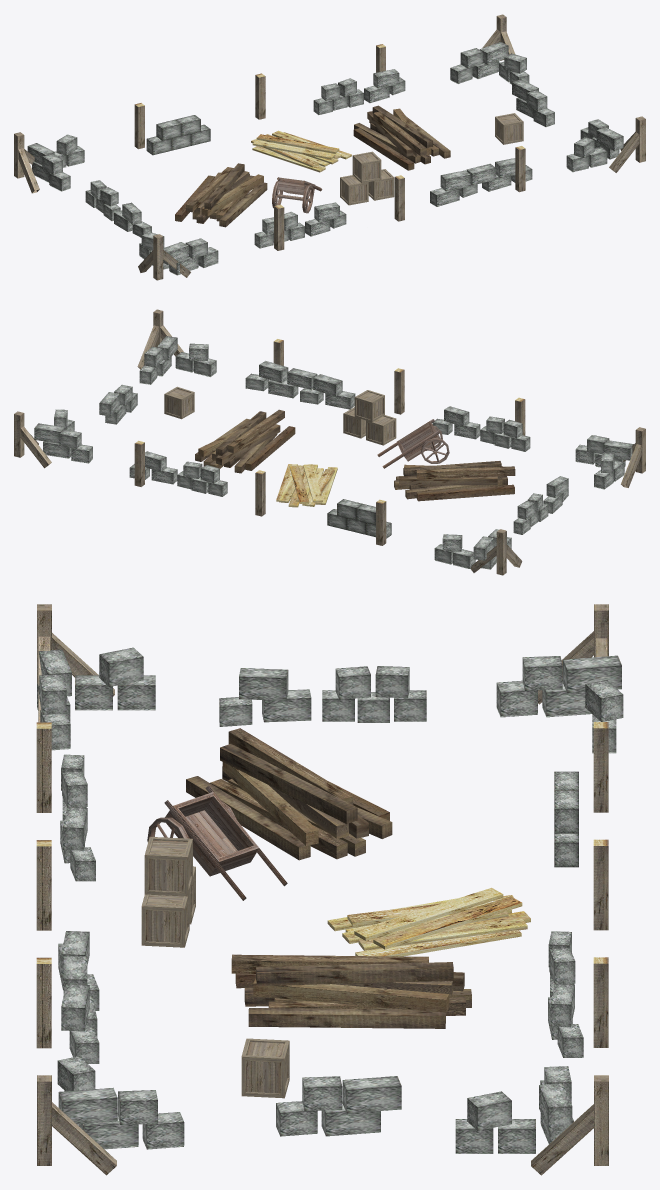
The model's file is fndn_8x4.glb.
3 views of the same model, one above another, from view 1: azimuth 30°, elevation 25°; view 2: azimuth 150°, elevation 25°; view 3: azimuth 270°, elevation 25° (orthographic). The views are drawn at different scales.
Visible parts, largest first — view 1: fndn_8x4_part17, fndn_8x4_part16, fndn_8x4_part33, fndn_8x4_part21, fndn_8x4_part18, fndn_8x4_part25, fndn_8x4_part23, fndn_8x4_part22, fndn_8x4_part34, fndn_8x4_part20, fndn_8x4_part24, fndn_8x4_part32 (+16 smaller); view 2: fndn_8x4_part16, fndn_8x4_part17, fndn_8x4_part33, fndn_8x4_part34, fndn_8x4_part23, fndn_8x4_part25, fndn_8x4_part18, fndn_8x4_part24, fndn_8x4_part21, fndn_8x4_part22, fndn_8x4_part20, fndn_8x4_part19 (+13 smaller); view 3: fndn_8x4_part17, fndn_8x4_part16, fndn_8x4_part20, fndn_8x4_part18, fndn_8x4_part22, fndn_8x4_part23, fndn_8x4_part24, fndn_8x4_part32, fndn_8x4_part21, fndn_8x4_part19, fndn_8x4_part33, fndn_8x4_part34 (+16 smaller).
Part boxes in pixels (x1,y1,x2,y2): fndn_8x4_part17: [353, 105, 450, 170]; fndn_8x4_part16: [175, 163, 267, 227]; fndn_8x4_part33: [430, 158, 532, 206]; fndn_8x4_part21: [450, 42, 529, 84]; fndn_8x4_part18: [251, 130, 351, 172]; fndn_8x4_part25: [313, 69, 405, 114]; fndn_8x4_part23: [566, 119, 623, 172]; fndn_8x4_part22: [27, 134, 84, 191]; fndn_8x4_part34: [254, 202, 346, 248]; fndn_8x4_part20: [85, 180, 151, 237]; fndn_8x4_part24: [139, 231, 218, 275]; fndn_8x4_part32: [512, 79, 554, 126]; fndn_8x4_part16: [394, 461, 515, 501]; fndn_8x4_part17: [195, 409, 295, 473]; fndn_8x4_part33: [245, 361, 355, 409]; fndn_8x4_part34: [432, 406, 530, 451]; fndn_8x4_part23: [139, 336, 216, 384]; fndn_8x4_part25: [129, 451, 227, 496]; fndn_8x4_part18: [276, 464, 337, 507]; fndn_8x4_part24: [575, 435, 633, 489]; fndn_8x4_part21: [34, 409, 92, 463]; fndn_8x4_part22: [434, 529, 511, 569]; fndn_8x4_part20: [513, 476, 568, 534]; fndn_8x4_part19: [377, 419, 449, 468]; fndn_8x4_part17: [231, 954, 471, 1028]; fndn_8x4_part16: [186, 728, 392, 860]; fndn_8x4_part20: [219, 666, 426, 726]; fndn_8x4_part18: [327, 887, 530, 956]; fndn_8x4_part22: [496, 655, 623, 753]; fndn_8x4_part23: [57, 1056, 184, 1149]; fndn_8x4_part24: [37, 647, 155, 750]; fndn_8x4_part32: [276, 1076, 401, 1136]; fndn_8x4_part21: [455, 1066, 573, 1153]; fndn_8x4_part19: [147, 785, 287, 900]; fndn_8x4_part33: [58, 931, 99, 1063]; fndn_8x4_part34: [60, 754, 95, 881].
Bounding box in the file's own units: 6.81 × 0.971 × 3.54.
Materials: 4 (4 with a texture image).
